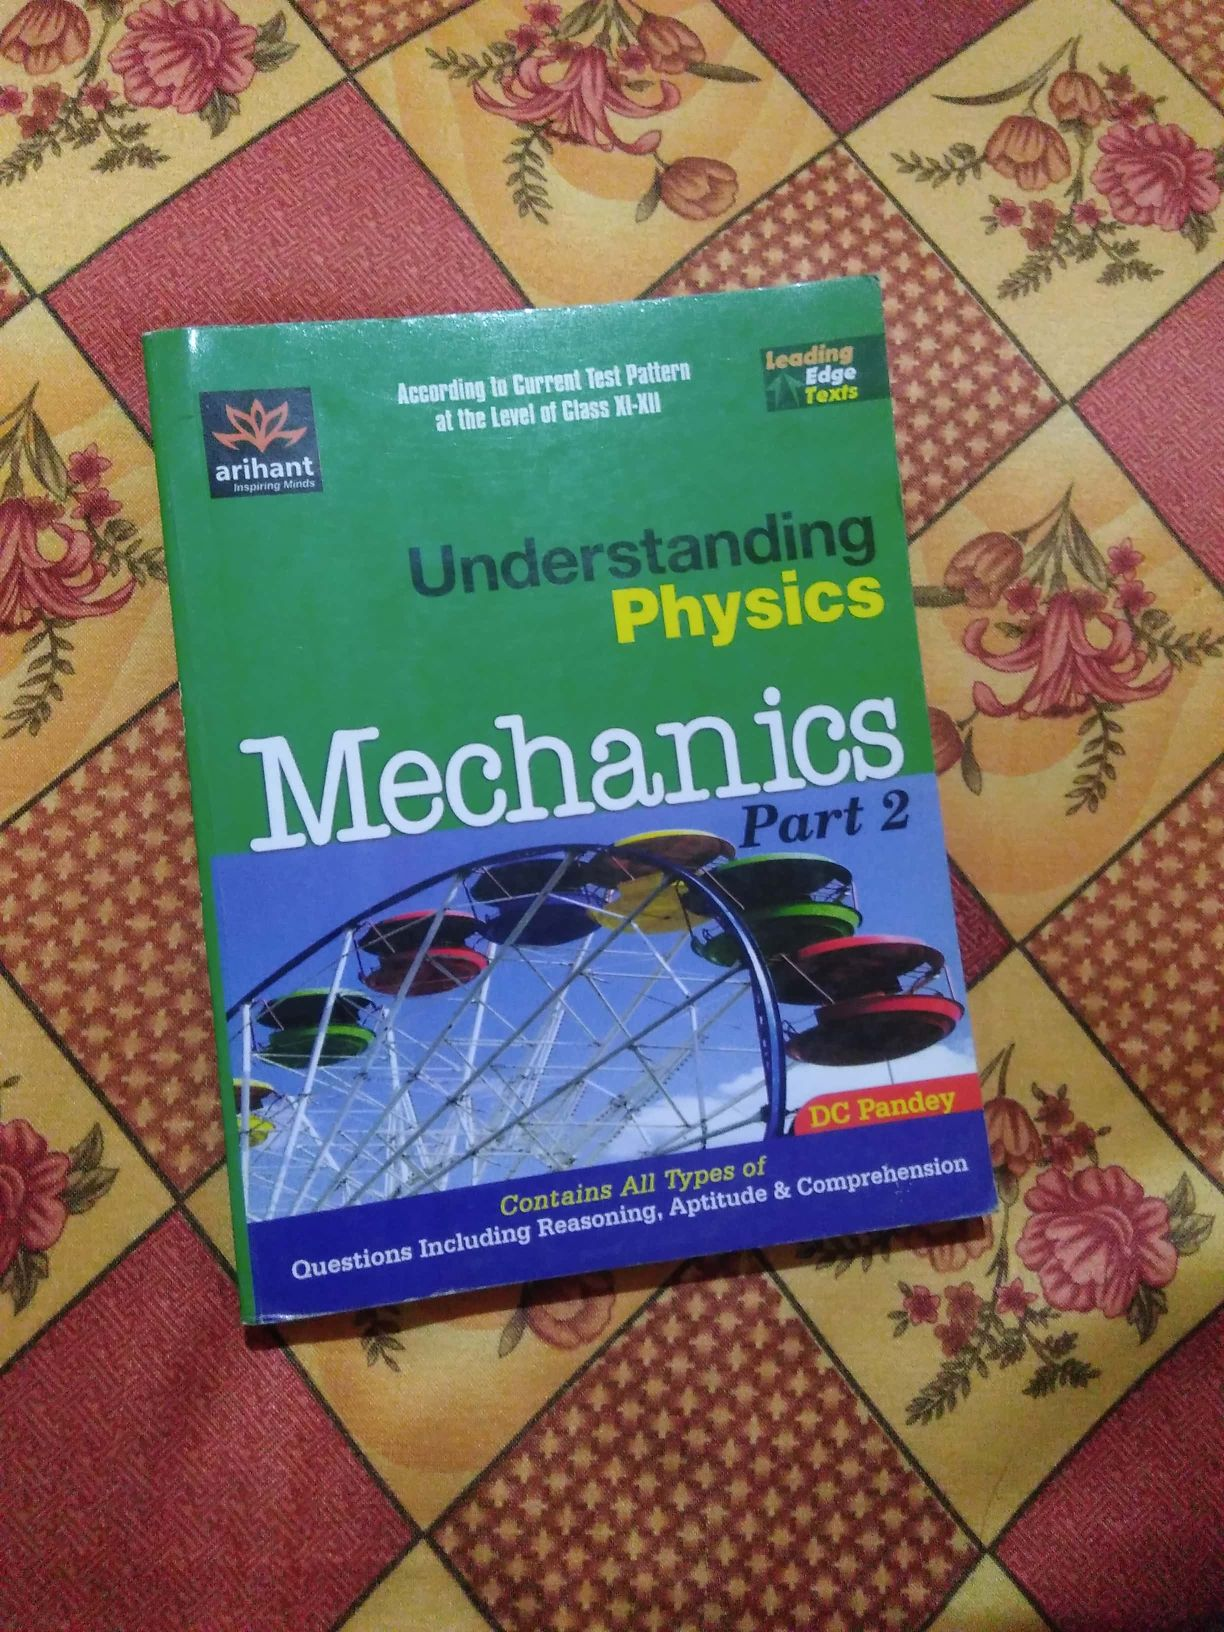mechanics: (114, 317, 1044, 1295)
